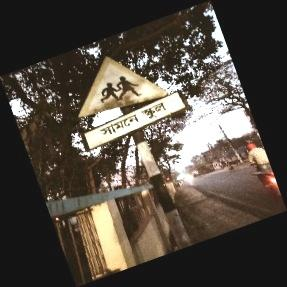School-in-front: (77, 56, 186, 152)
